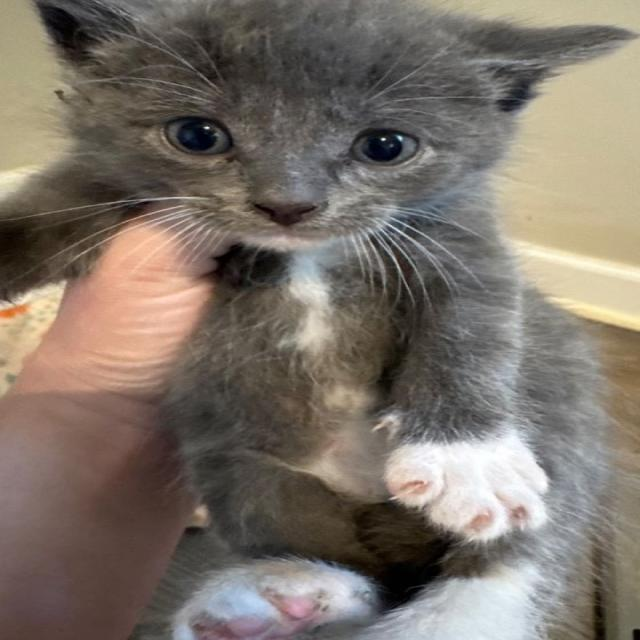russian_blue_cat: (36, 1, 640, 261)
